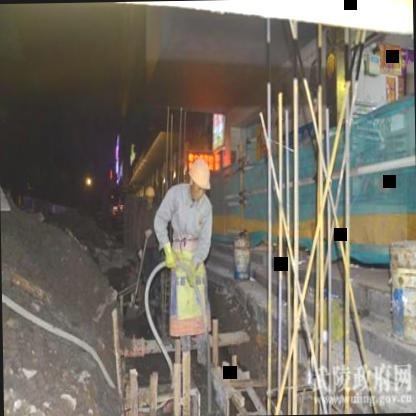helmet: (184, 156, 214, 203), (143, 186, 155, 206)
